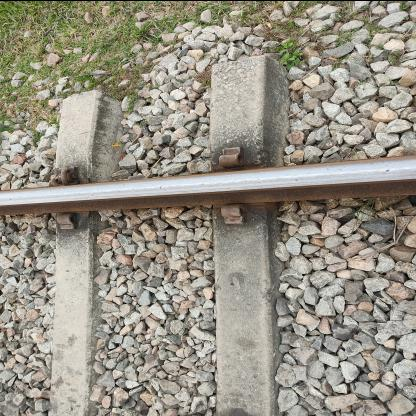Defective 1: (41, 204, 95, 240), (211, 198, 261, 230), (208, 137, 258, 169)
